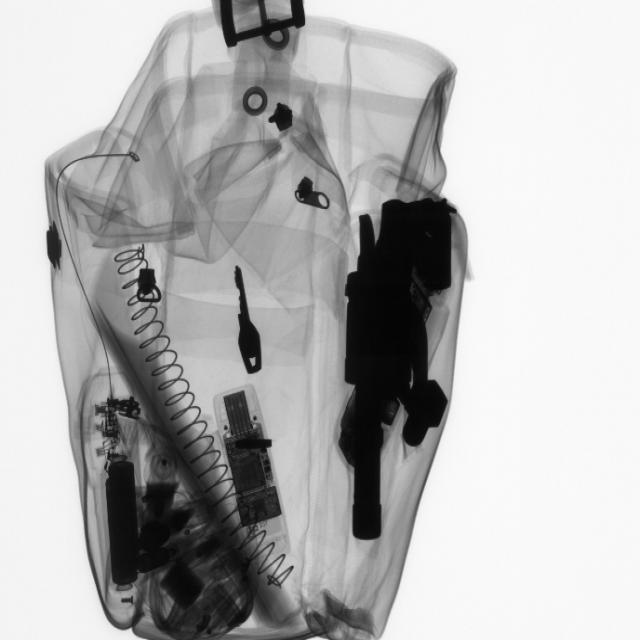GUN: (335, 189, 450, 558)
